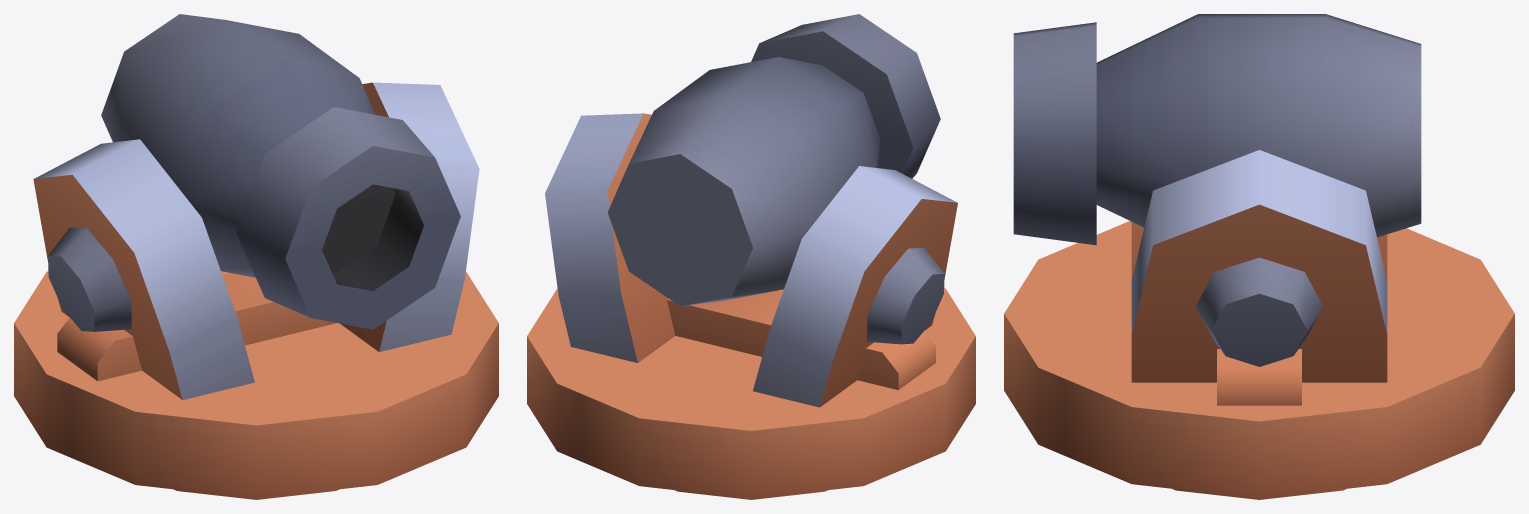
File: weapon-cannon.glb
The picture shows the model from 3 angles, left to right: view 1: azimuth 30°, elevation 25°; view 2: azimuth 150°, elevation 25°; view 3: azimuth 270°, elevation 25°; orthographic projection. The views are drawn at different scales.
Parts seen in each view (by area): view 1: weapon-cannon, barrel; view 2: weapon-cannon, barrel; view 3: weapon-cannon, barrel.
Boxes of the visible parts, x1,y1,x2,y2 form: weapon-cannon: [14, 82, 498, 499]; barrel: [101, 14, 460, 329]; weapon-cannon: [527, 113, 975, 499]; barrel: [607, 14, 940, 306]; weapon-cannon: [1004, 150, 1514, 499]; barrel: [1013, 14, 1421, 245].
Bounding box in the file's own units: 0.6 × 0.5328 × 0.6.
Materials: 1 (1 with a texture image).
